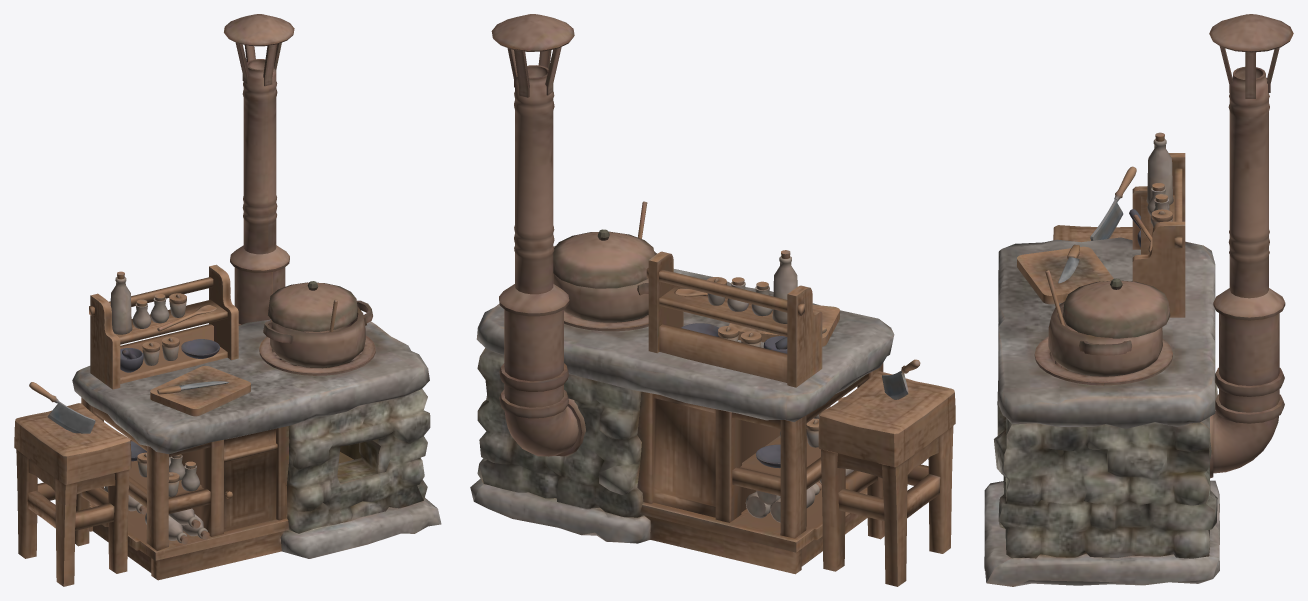
The model's file is farmer_kitchen.glb.
3 views of the same model, side by side, from view 1: azimuth 30°, elevation 25°; view 2: azimuth 150°, elevation 25°; view 3: azimuth 270°, elevation 25° (orthographic). The views are drawn at different scales.
Visible parts, largest first — view 1: npc_props_food_preperation_table_01; view 2: npc_props_food_preperation_table_01; view 3: npc_props_food_preperation_table_01.
Part boxes in pixels (left/top/right/bottom): npc_props_food_preperation_table_01: left=14, top=14, right=441, bottom=586; npc_props_food_preperation_table_01: left=470, top=14, right=955, bottom=586; npc_props_food_preperation_table_01: left=984, top=14, right=1293, bottom=586.
Bounding box in the file's own units: 2.57 × 3.13 × 1.66.
Materials: 1 (1 with a texture image).
